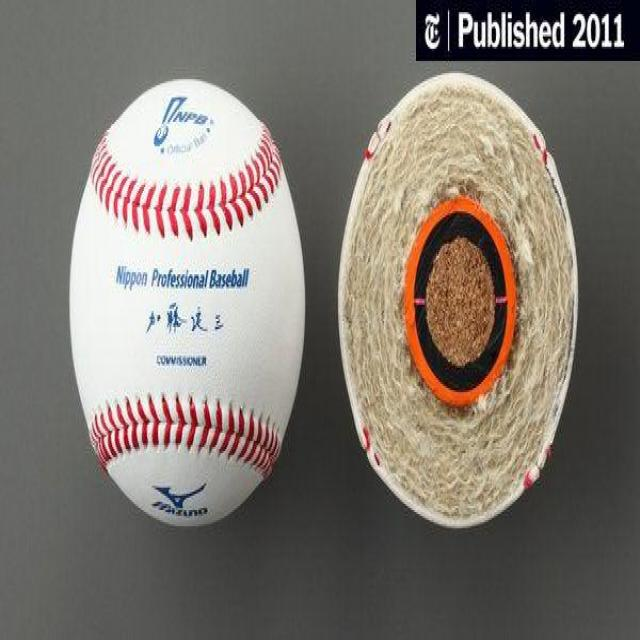baseball: (68, 73, 309, 524)
